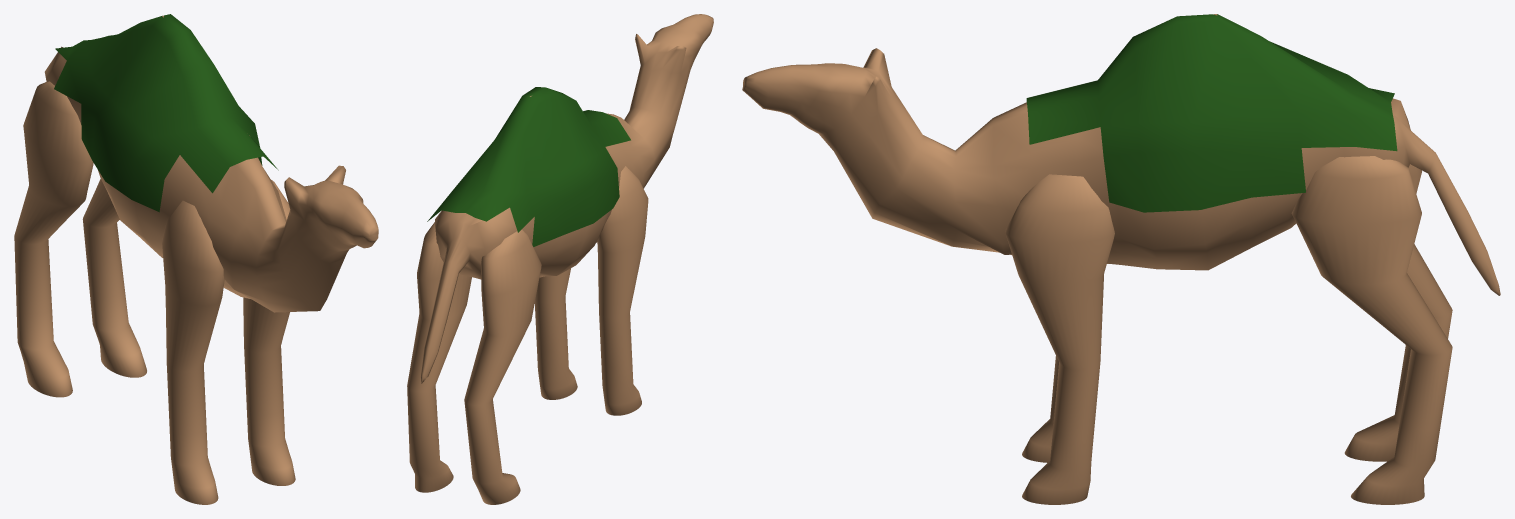
Rendered from Camel.fbx.
3 views of the same model, side by side, from view 1: azimuth 30°, elevation 25°; view 2: azimuth 150°, elevation 25°; view 3: azimuth 270°, elevation 25° (orthographic). The views are drawn at different scales.
Parts seen in each view (by area): view 1: Camel, back; view 2: Camel, back; view 3: Camel, back.
Boxes of the visible parts, x1,y1,x2,y2 form: Camel: (14,15,378,504); back: (54,14,278,212); Camel: (407,14,713,504); back: (427,87,630,246); Camel: (742,14,1500,504); back: (1026,14,1397,212).
Size of the model in its own units: 84.78 by 249 by 371.
